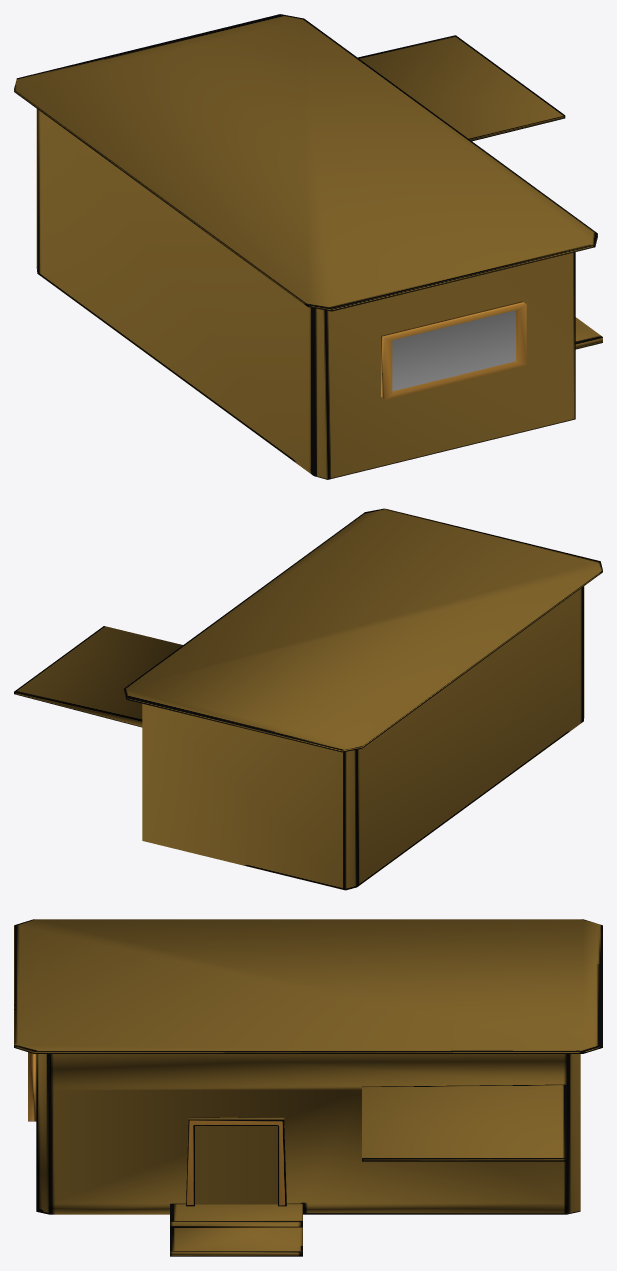
The model's file is MainBase_Tier2.fbx.
3 views of the same model, one above another, from view 1: azimuth 30°, elevation 25°; view 2: azimuth 150°, elevation 25°; view 3: azimuth 270°, elevation 25° (orthographic). The views are drawn at different scales.
Visible parts, largest first — view 1: BaseTier2, Window; view 2: BaseTier2; view 3: BaseTier2, Door, Window.
Boxes of the visible parts, x1=… form: BaseTier2: x1=14, y1=14, x2=602, y2=479; Window: x1=381, y1=301, x2=526, y2=399; BaseTier2: x1=14, y1=508, x2=602, y2=890; BaseTier2: x1=14, y1=919, x2=602, y2=1256; Door: x1=186, y1=1117, x2=286, y2=1206; Window: x1=28, y1=1052, x2=36, y2=1121.
Bounding box in the file's own units: 2.86 × 3.6 × 1.15.
3 materials, 3 textured.
